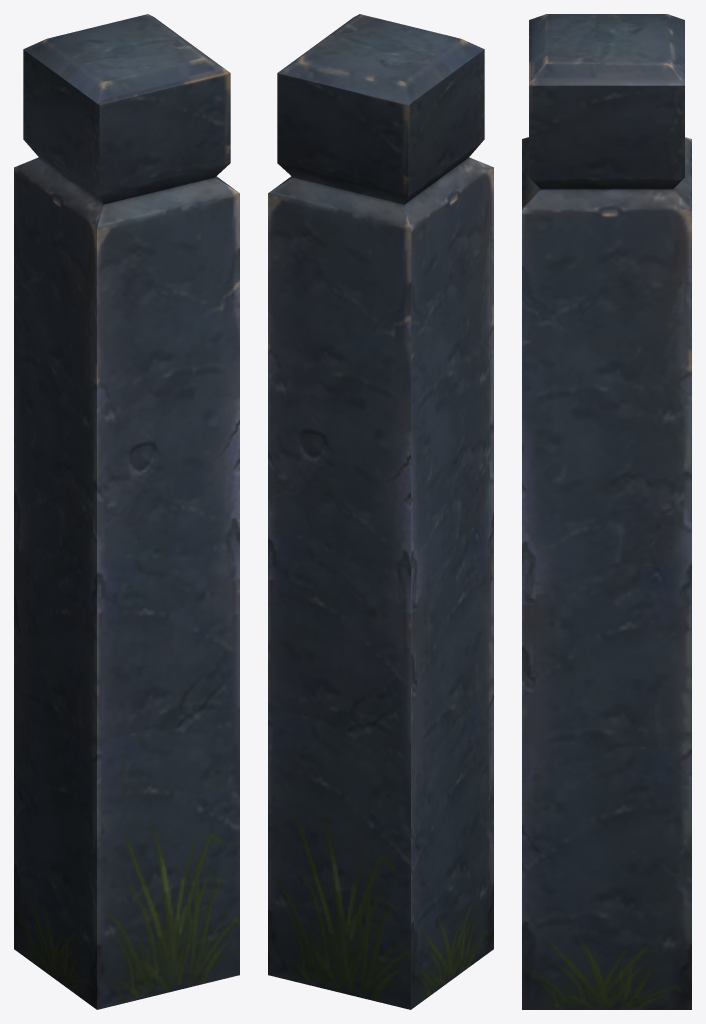
The model's file is HuBian_NightRailing01_FBX.FBX.
The picture shows the model from 3 angles, left to right: view 1: azimuth 30°, elevation 25°; view 2: azimuth 150°, elevation 25°; view 3: azimuth 270°, elevation 25°; orthographic projection. The views are drawn at different scales.
Visible parts, largest first — view 1: HuBian_NightRailing01_FBX; view 2: HuBian_NightRailing01_FBX; view 3: HuBian_NightRailing01_FBX.
Part boxes in pixels (x1=…): HuBian_NightRailing01_FBX: x1=14, y1=14, x2=239, y2=1009; HuBian_NightRailing01_FBX: x1=268, y1=14, x2=493, y2=1009; HuBian_NightRailing01_FBX: x1=522, y1=14, x2=691, y2=1009.
Bounding box in the file's own units: 0.1987 × 1.22 × 0.2.
